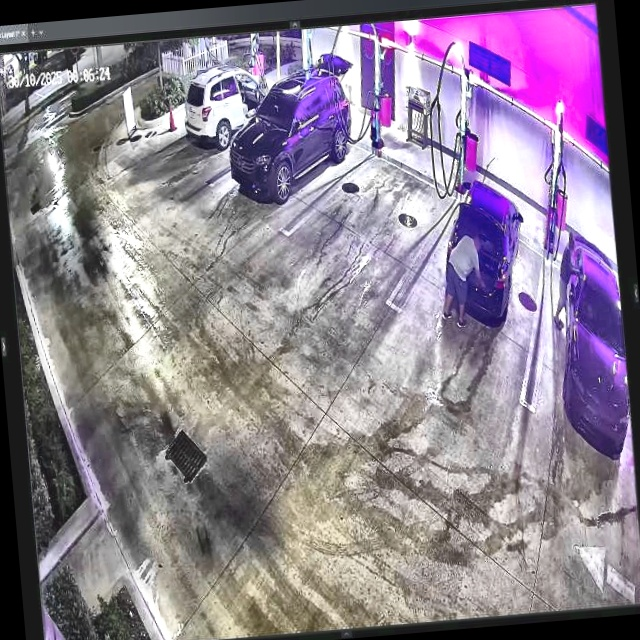Car: (221, 51, 363, 202), (439, 174, 532, 328)
